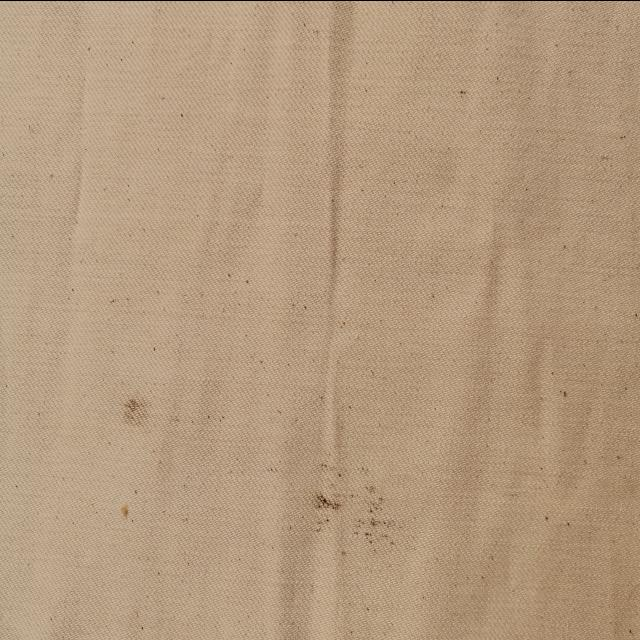taaaches: (298, 446, 406, 564), (120, 388, 162, 440), (118, 492, 136, 526)
